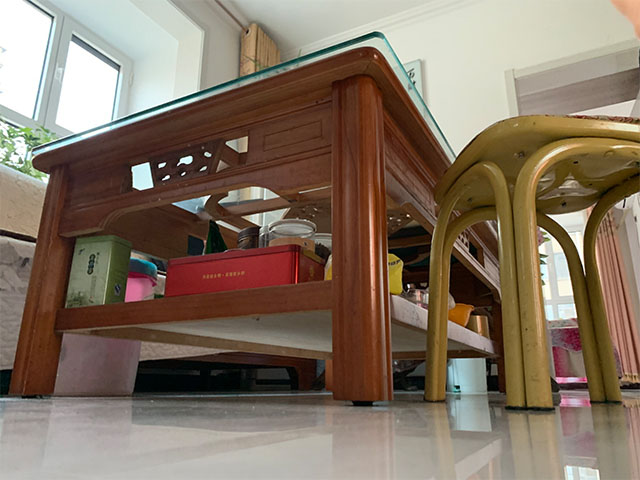curtain: (587, 203, 640, 387)
stool: (423, 113, 640, 412)
table: (7, 31, 506, 408)
